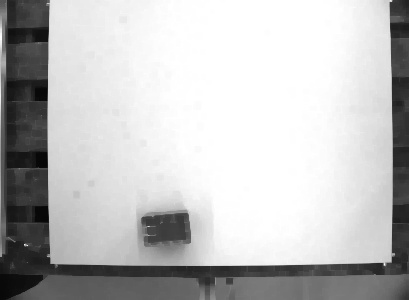kltxs: (139, 208, 197, 249)
